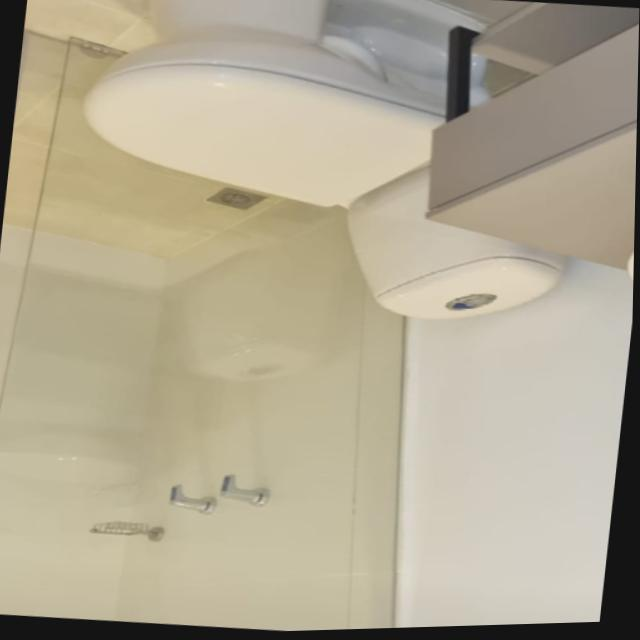toilet: (62, 0, 596, 342)
